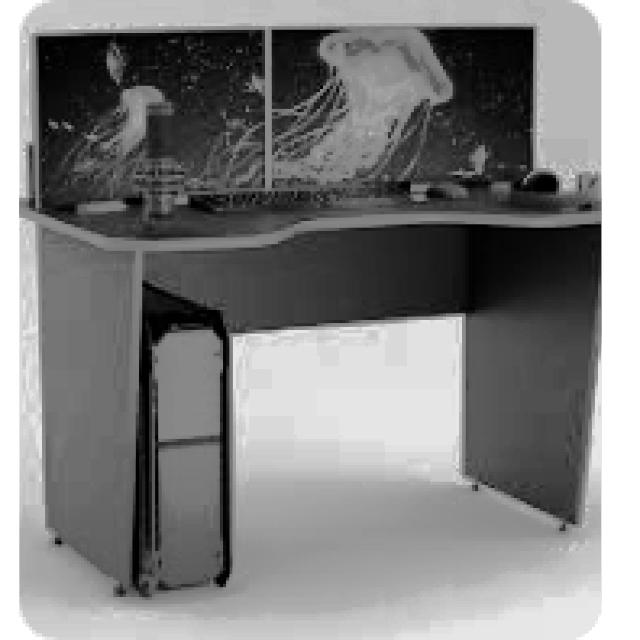table: (19, 188, 602, 597)
